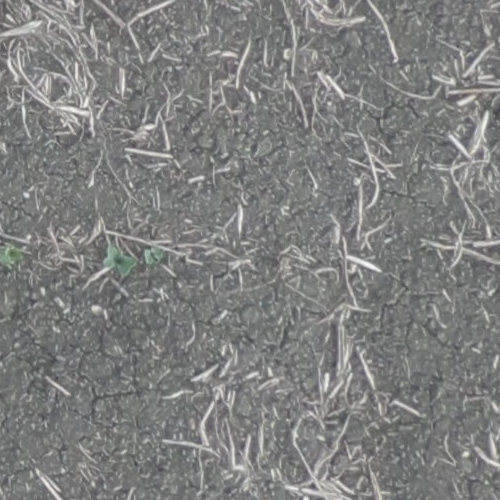isolated: (102, 245, 137, 277), (0, 247, 23, 271), (144, 247, 165, 264)
